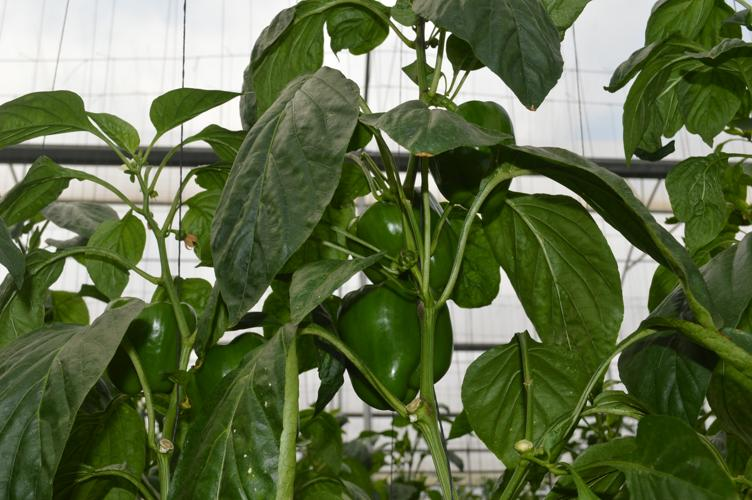BellPepper: (336, 278, 455, 411), (348, 188, 461, 293), (429, 103, 514, 210), (110, 301, 190, 399), (194, 332, 275, 405)
